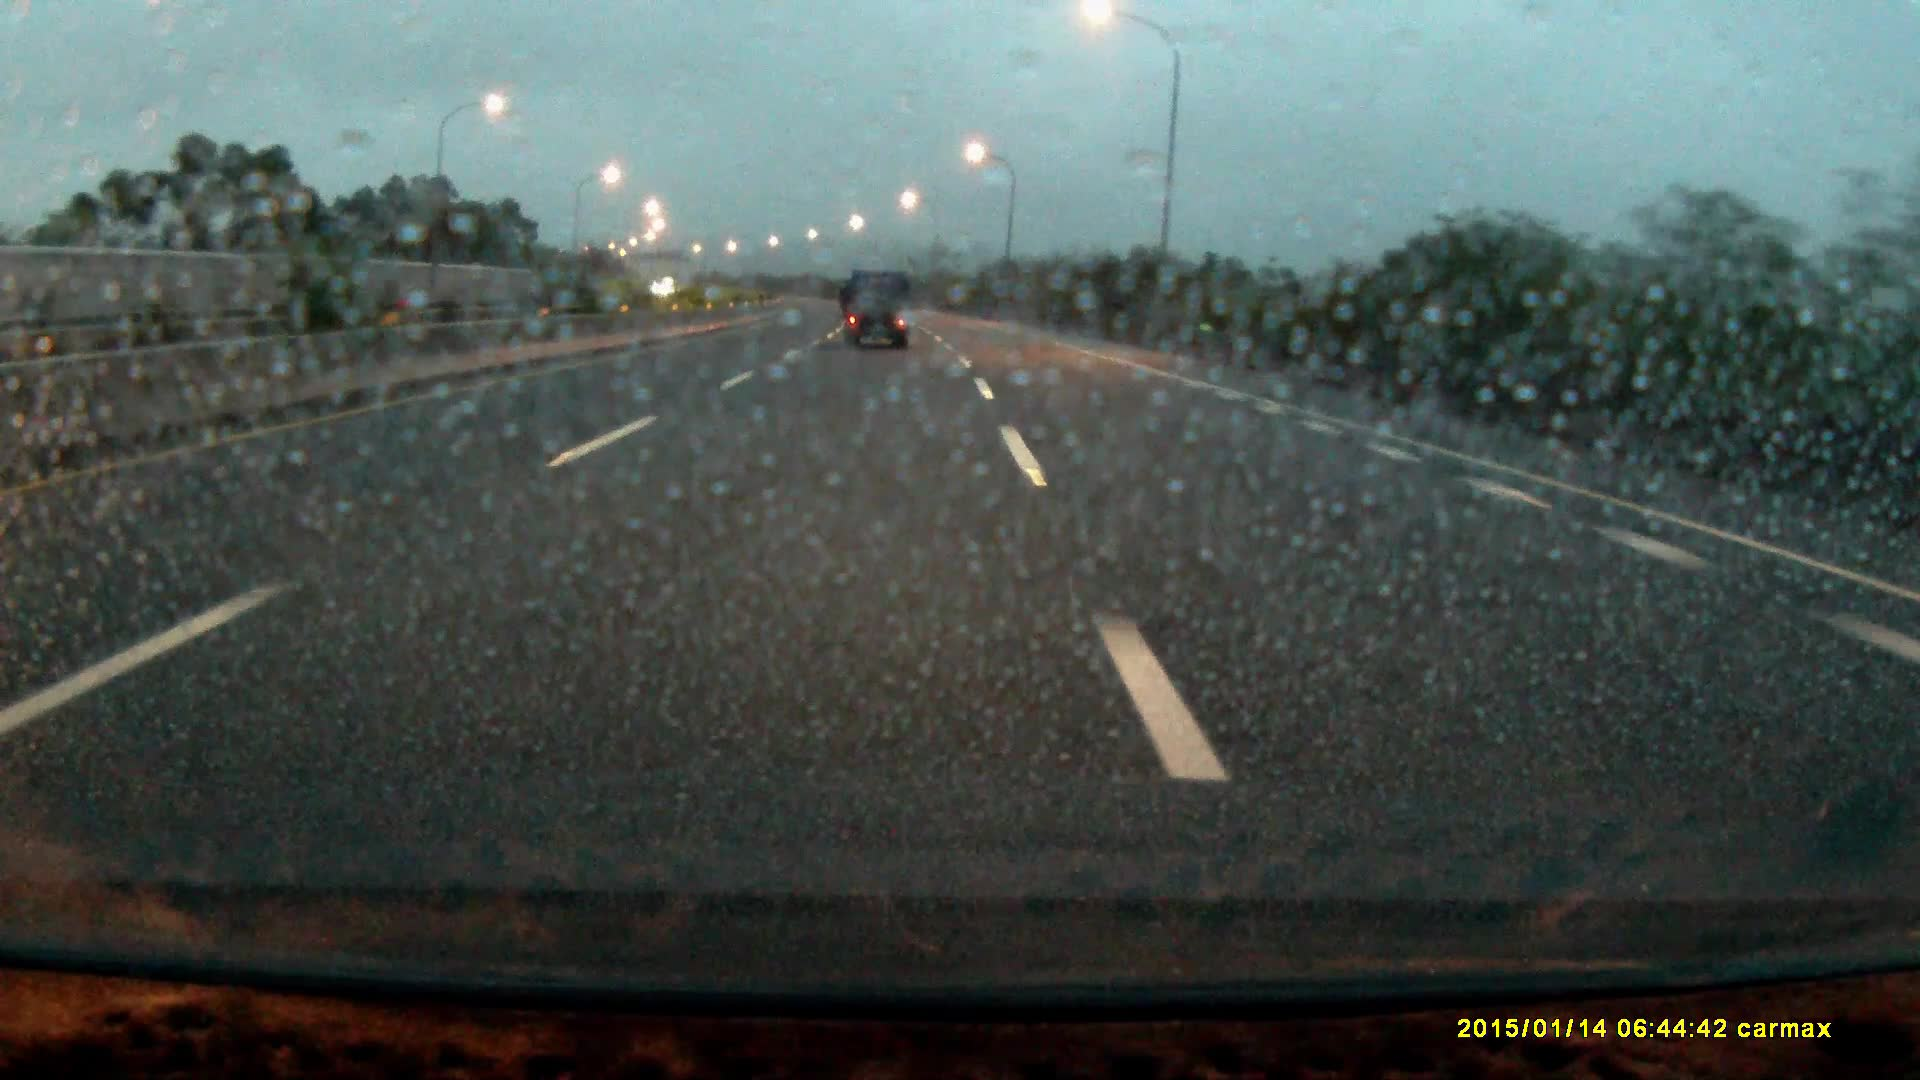vehicle: (840, 270, 911, 357)
